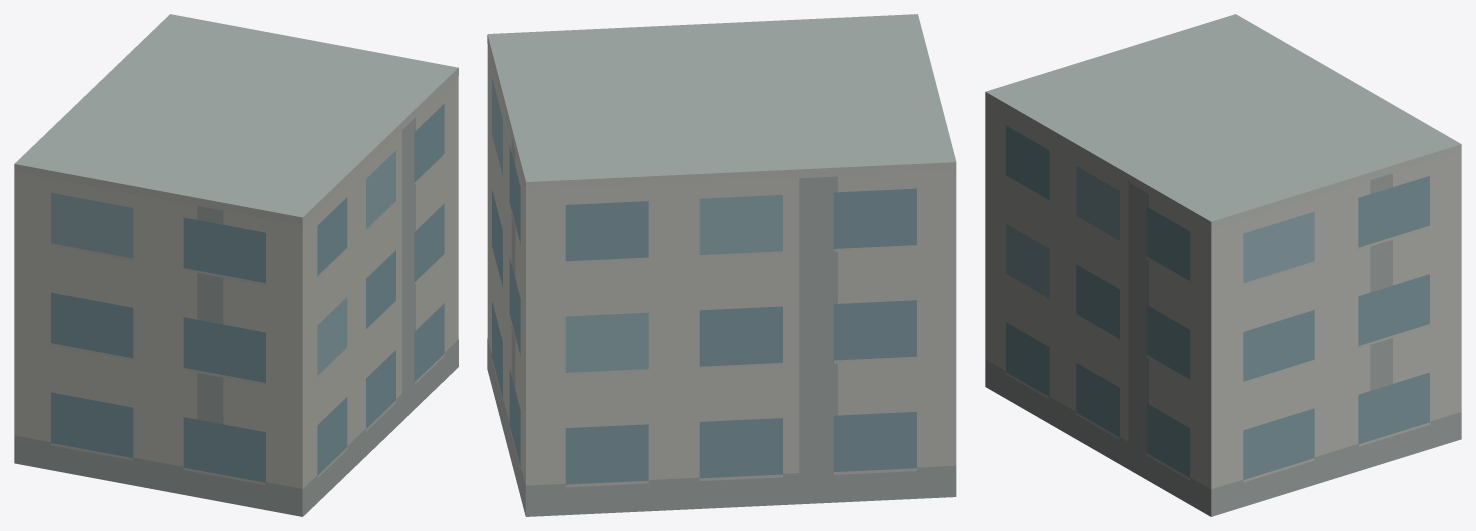
File: residential-beee82d6-1123-4e5d-9258-404e049068fa.glb
3 views of the same model, side by side, from view 1: azimuth 30°, elevation 25°; view 2: azimuth 150°, elevation 25°; view 3: azimuth 270°, elevation 25° (orthographic). The views are drawn at different scales.
Visible parts, largest first — view 1: residential-beee82d6-1123-4e5d-9258-404e049068fa.tmp; view 2: residential-beee82d6-1123-4e5d-9258-404e049068fa.tmp; view 3: residential-beee82d6-1123-4e5d-9258-404e049068fa.tmp.
Part boxes in pixels (left/top/right/bottom): residential-beee82d6-1123-4e5d-9258-404e049068fa.tmp: left=14, top=14, right=458, bottom=516; residential-beee82d6-1123-4e5d-9258-404e049068fa.tmp: left=487, top=14, right=956, bottom=516; residential-beee82d6-1123-4e5d-9258-404e049068fa.tmp: left=985, top=14, right=1461, bottom=516.
Bounding box in the file's own units: 13.82 × 9.15 × 13.39.
